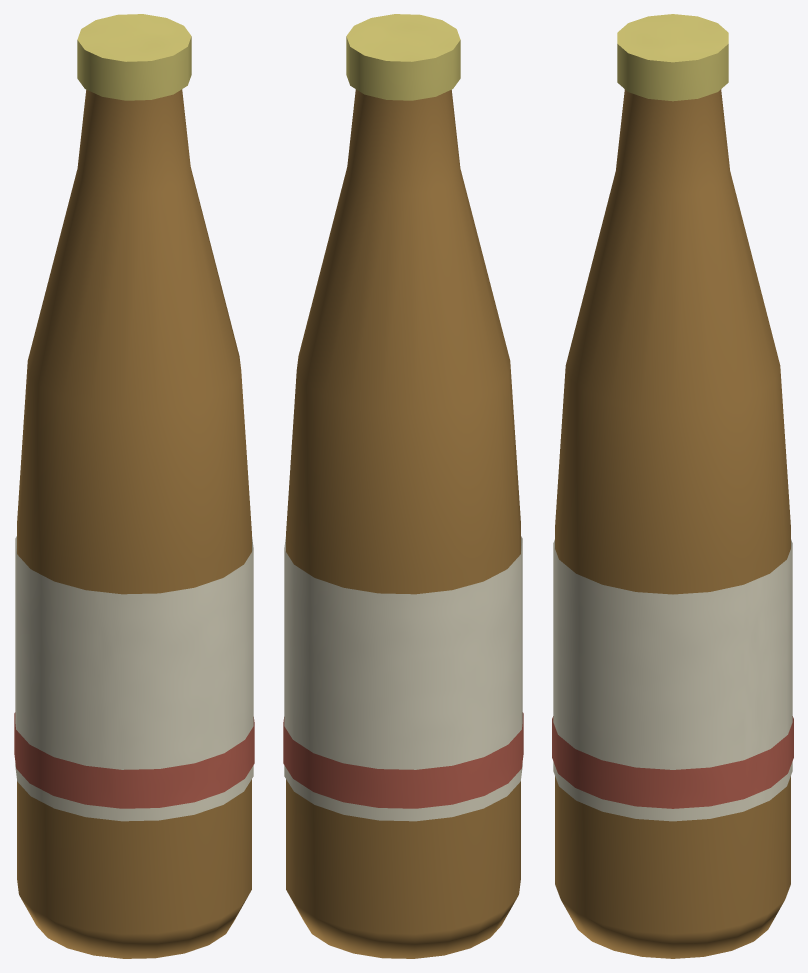
Rendered from beer.glb.
The picture shows the model from 3 angles, left to right: view 1: azimuth 30°, elevation 25°; view 2: azimuth 150°, elevation 25°; view 3: azimuth 270°, elevation 25°; orthographic projection.
Parts seen in each view (by area): view 1: beer_body; view 2: beer_body; view 3: beer_body.
Part boxes in pixels (x1,y1,x2,y2): beer_body: (14,14,254,958); beer_body: (283,14,523,958); beer_body: (552,14,793,958).
Size of the model in its own units: 0.0676 by 0.271 by 0.0676.
Materials: 5 (4 with a texture image).
